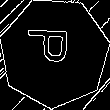P_E: (29, 33, 80, 73)
